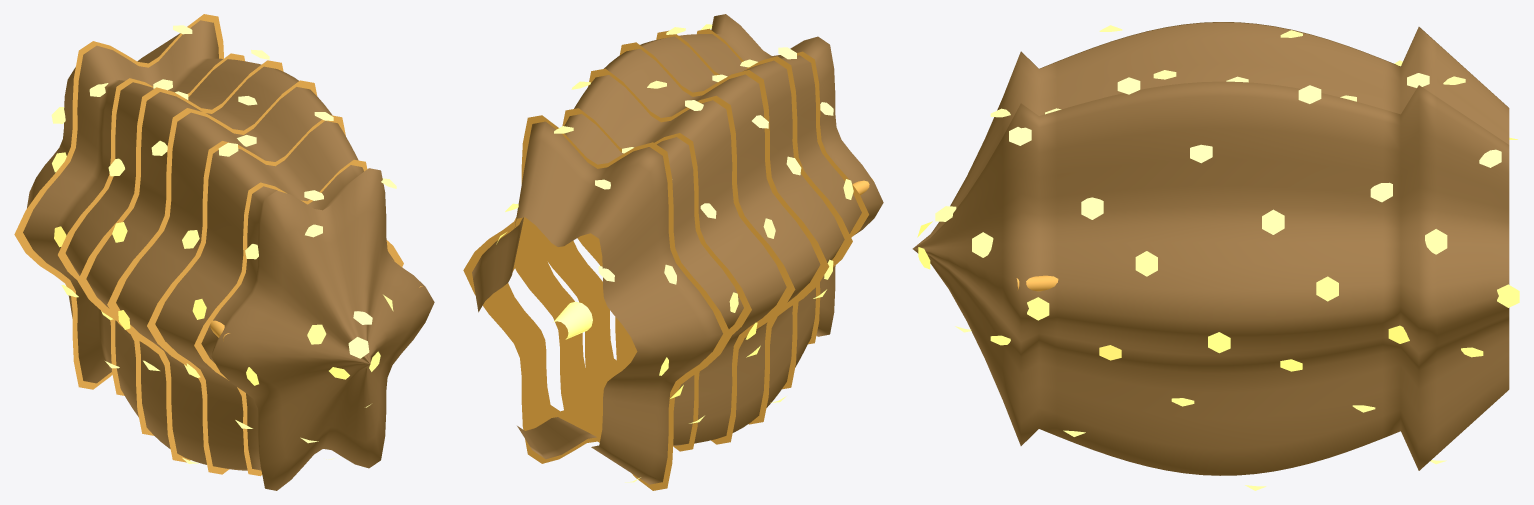
File: mechanoids_cruiser.glb
The picture shows the model from 3 angles, left to right: view 1: azimuth 30°, elevation 25°; view 2: azimuth 150°, elevation 25°; view 3: azimuth 270°, elevation 25°; orthographic projection. The views are drawn at different scales.
Parts seen in each view (by area): view 1: mechanoids_cruiser; view 2: mechanoids_cruiser; view 3: mechanoids_cruiser.
Part boxes in pixels (x1,y1,x2,y2): mechanoids_cruiser: [14, 14, 434, 490]; mechanoids_cruiser: [463, 14, 883, 490]; mechanoids_cruiser: [912, 22, 1519, 490].
Bounding box in the file's own units: 1.93 × 2.4 × 3.25.
